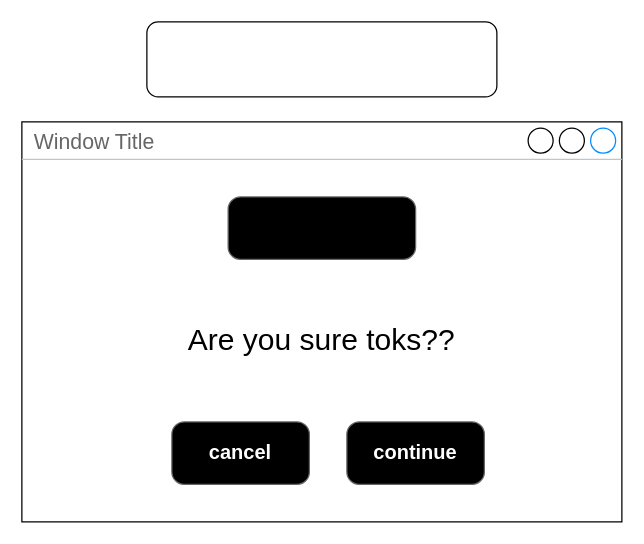
Some shapes in this 644 by 544 pixel diagram are drawn without their labels. The shapes that lost their labels are listed below. From the top down, each one's centre as x and y in pixels, then its label:
At (321,59): "Design 2".
At (321,227): "!ALERT!".
